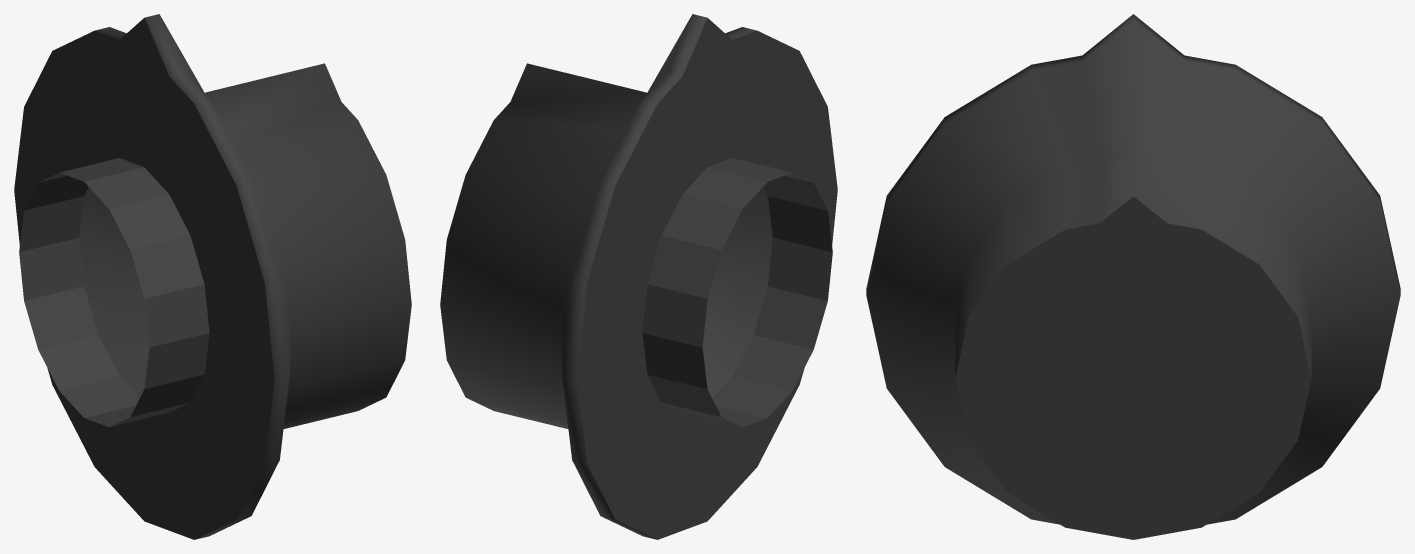
File: dial.gltf
The picture shows the model from 3 angles, left to right: view 1: azimuth 30°, elevation 25°; view 2: azimuth 150°, elevation 25°; view 3: azimuth 270°, elevation 25°; orthographic projection. The views are drawn at different scales.
Parts seen in each view (by area): view 1: Cube.003; view 2: Cube.003; view 3: Cube.003.
Boxes of the visible parts, left/top/right/bottom form: Cube.003: left=14, top=14, right=411, bottom=539; Cube.003: left=440, top=14, right=837, bottom=539; Cube.003: left=866, top=14, right=1400, bottom=539.
Bounding box in the file's own units: 0.16 × 0.32 × 0.3.
